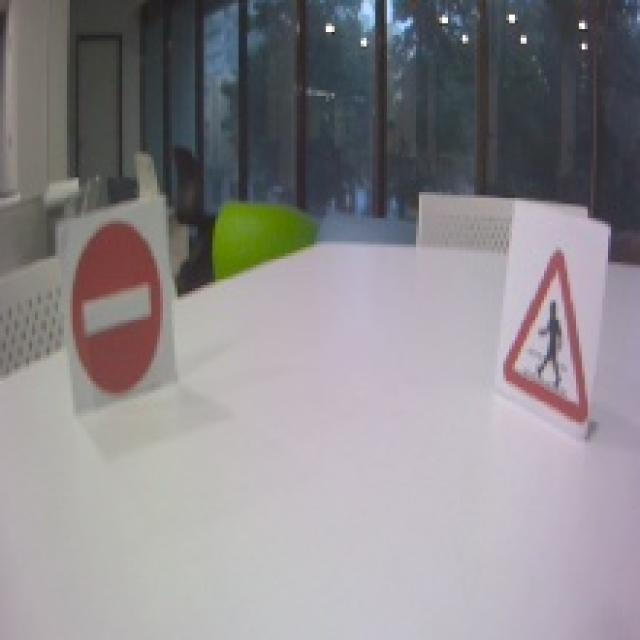DoNotEnterSign: (65, 222, 169, 399)
